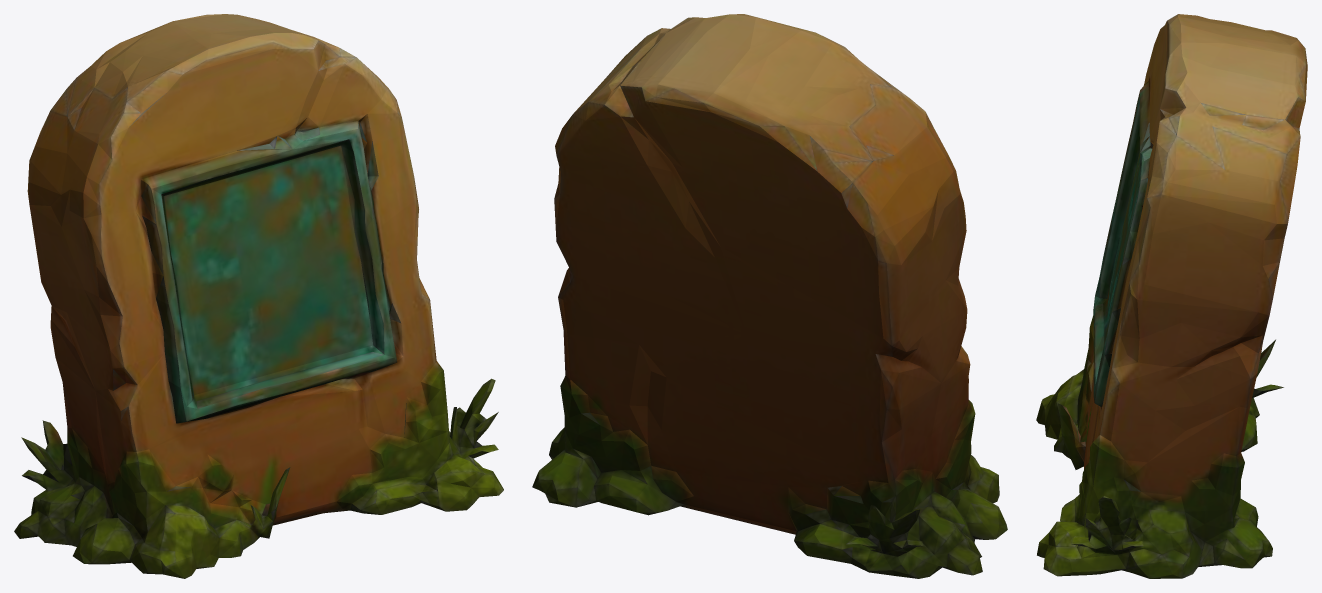
Rendered from grave_marker.glb.
The picture shows the model from 3 angles, left to right: view 1: azimuth 30°, elevation 25°; view 2: azimuth 150°, elevation 25°; view 3: azimuth 270°, elevation 25°; orthographic projection. The views are drawn at different scales.
Visible parts, largest first — view 1: tripo_node_23b74dff-3f9b-4479-90c0-1291d442d55d.001; view 2: tripo_node_23b74dff-3f9b-4479-90c0-1291d442d55d.001; view 3: tripo_node_23b74dff-3f9b-4479-90c0-1291d442d55d.001.
Boxes of the visible parts, <box> form: tripo_node_23b74dff-3f9b-4479-90c0-1291d442d55d.001: <box>14,14,503,578</box>; tripo_node_23b74dff-3f9b-4479-90c0-1291d442d55d.001: <box>532,14,1007,578</box>; tripo_node_23b74dff-3f9b-4479-90c0-1291d442d55d.001: <box>1036,14,1307,578</box>.
Bounding box in the file's own units: 0.956 × 0.9787 × 0.5384.
Materials: 1 (1 with a texture image).
